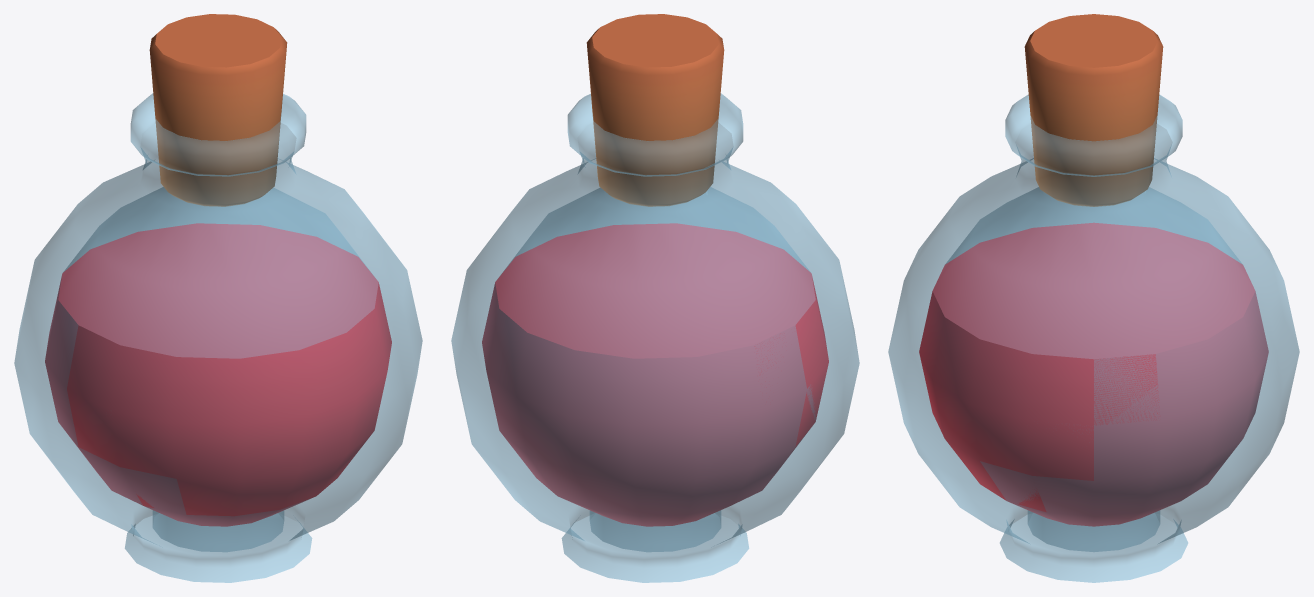
The model's file is Potion_Box_V2_00.fbx.
3 views of the same model, side by side, from view 1: azimuth 30°, elevation 25°; view 2: azimuth 150°, elevation 25°; view 3: azimuth 270°, elevation 25° (orthographic).
Visible parts, largest first — view 1: Potion_Box_V2_00, Potion_V2_00, Potion_Box_Plug_V2_00; view 2: Potion_Box_V2_00, Potion_V2_00, Potion_Box_Plug_V2_00; view 3: Potion_Box_V2_00, Potion_V2_00, Potion_Box_Plug_V2_00.
Boxes of the visible parts, x1,y1,x2,y2 form: Potion_Box_V2_00: [14, 93, 422, 582]; Potion_V2_00: [45, 223, 391, 526]; Potion_Box_Plug_V2_00: [149, 14, 287, 206]; Potion_Box_V2_00: [451, 93, 859, 582]; Potion_V2_00: [482, 223, 828, 526]; Potion_Box_Plug_V2_00: [586, 14, 724, 206]; Potion_Box_V2_00: [888, 94, 1299, 582]; Potion_V2_00: [919, 223, 1268, 526]; Potion_Box_Plug_V2_00: [1024, 14, 1163, 206].
Bounding box in the file's own units: 29.81 × 40.12 × 29.81.
